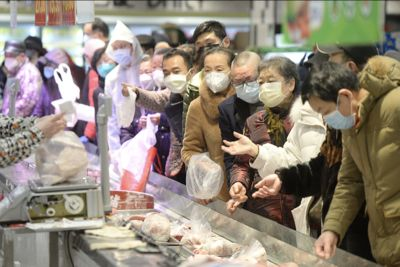with-mask: (302, 64, 360, 137), (259, 56, 294, 115), (197, 47, 232, 102), (229, 50, 260, 107), (189, 23, 238, 59), (163, 49, 193, 100), (82, 46, 122, 81), (109, 25, 138, 71), (38, 49, 67, 88), (77, 16, 111, 49), (3, 41, 29, 71), (137, 56, 154, 94), (154, 39, 166, 91)
